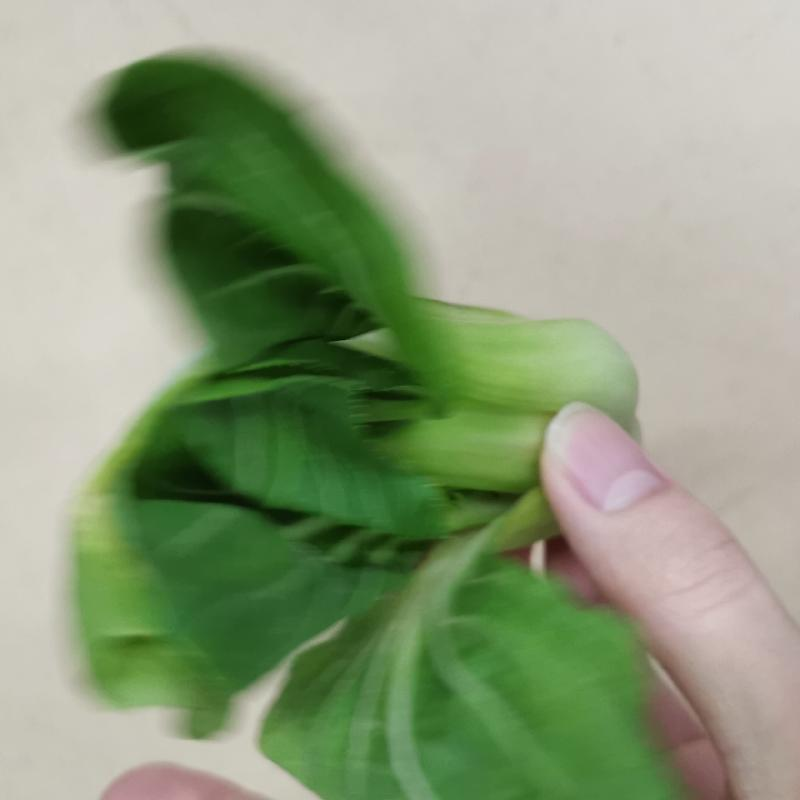green vegatable: (73, 66, 541, 773)
